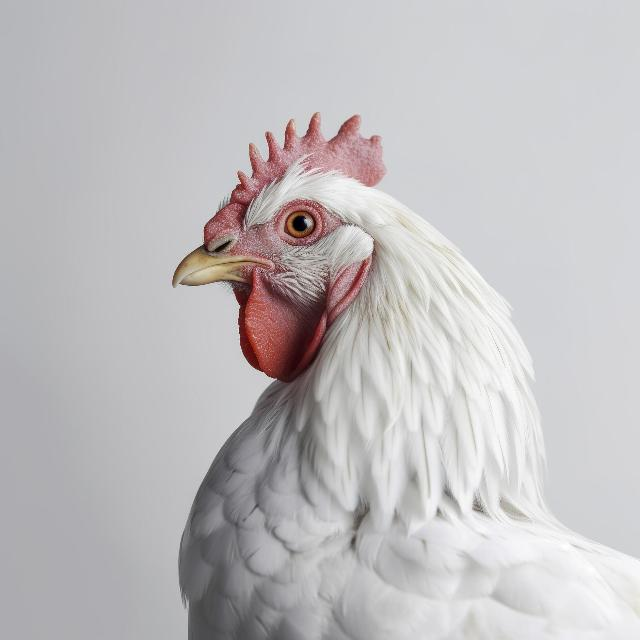Chicken: (173, 113, 640, 640)
